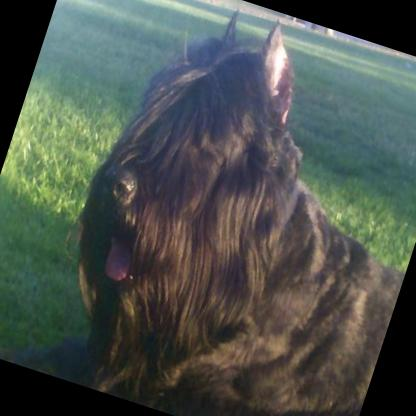Bouvier_des_Flandres: (28, 0, 416, 416)
